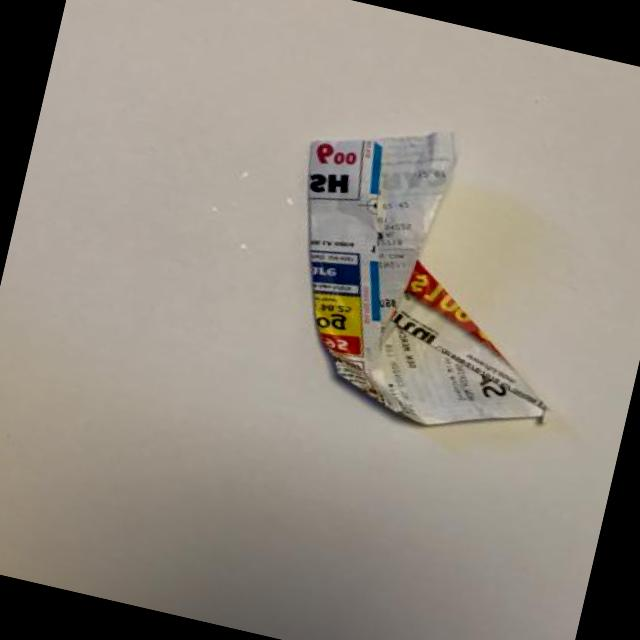paper: (308, 133, 544, 424)
